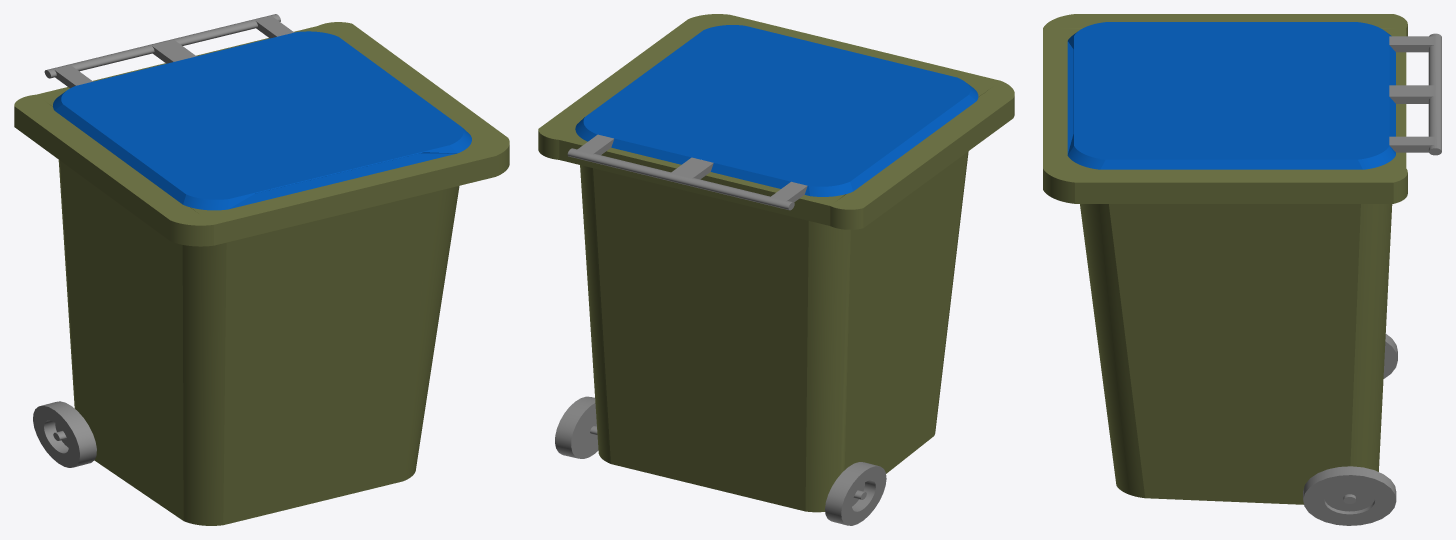
Rendered from sh-contrib-wheelie-bin.glb.
3 views of the same model, side by side, from view 1: azimuth 30°, elevation 25°; view 2: azimuth 150°, elevation 25°; view 3: azimuth 270°, elevation 25° (orthographic). The views are drawn at different scales.
Parts seen in each view (by area): view 1: 2_2, 3_3, 27_27; view 2: 2_2, 3_3, 27_27; view 3: 2_2, 3_3, 27_27.
Boxes of the visible parts, x1,y1,x2,y2 form: 2_2: (14,22,509,525); 3_3: (53,31,471,210); 27_27: (33,14,293,467); 2_2: (538,14,1014,512); 3_3: (575,25,978,196); 27_27: (555,134,886,525); 2_2: (1043,14,1407,504); 3_3: (1067,22,1395,169); 27_27: (1303,33,1441,525).
Size of the model in its own units: 1 by 1 by 1.
